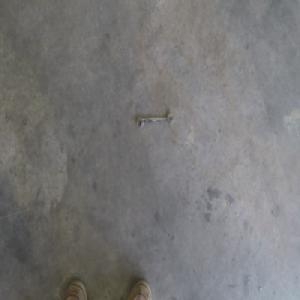Wrench: (137, 112, 173, 128)
